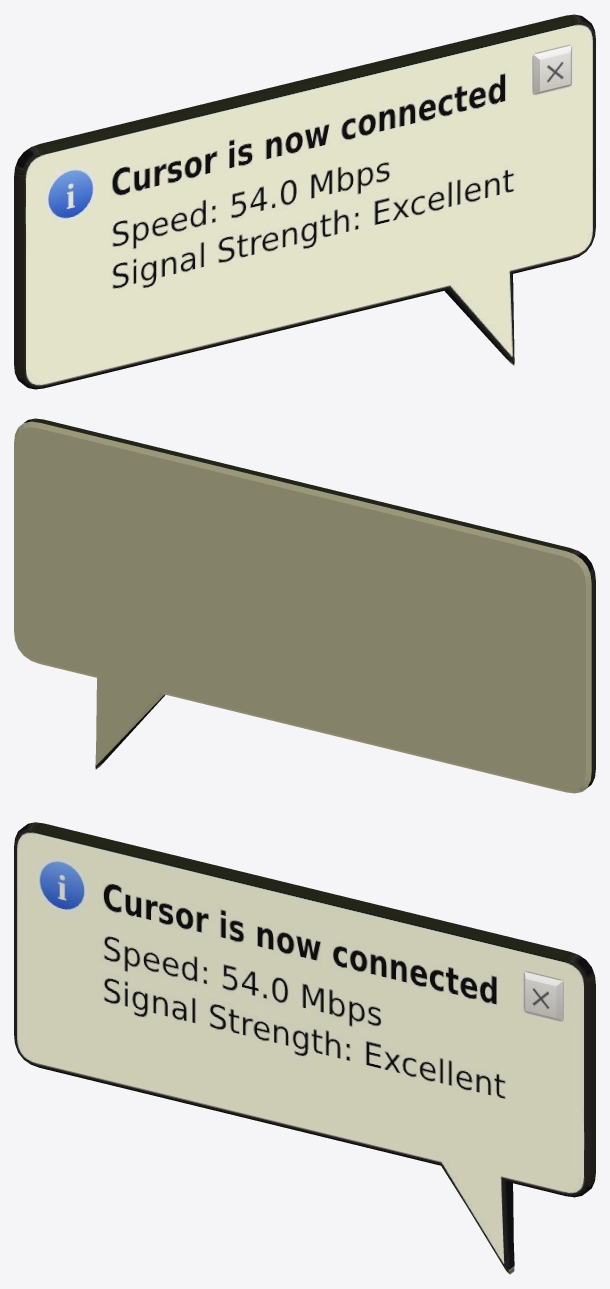
The model's file is balloon-cursor.glb.
3 renders of one model, top to bottom at view 1: azimuth 30°, elevation 25°; view 2: azimuth 150°, elevation 25°; view 3: azimuth 330°, elevation 25°, orthographic.
Visible parts, largest first — view 1: balloon; view 2: balloon; view 3: balloon.
Boxes of the visible parts, <box> form: balloon: <box>14,14,595,389</box>; balloon: <box>14,418,595,793</box>; balloon: <box>14,822,595,1274</box>.
Size of the model in its own units: 0.466 by 0.257 by 0.016.
Materials: 1 (1 with a texture image).
